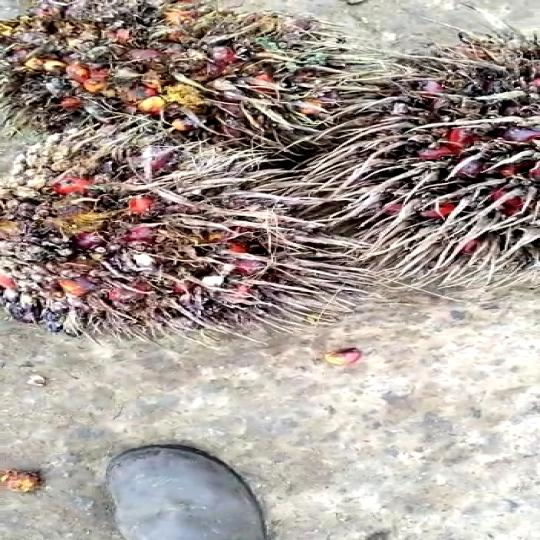terlalu masak: (0, 132, 338, 354), (0, 11, 377, 132)
